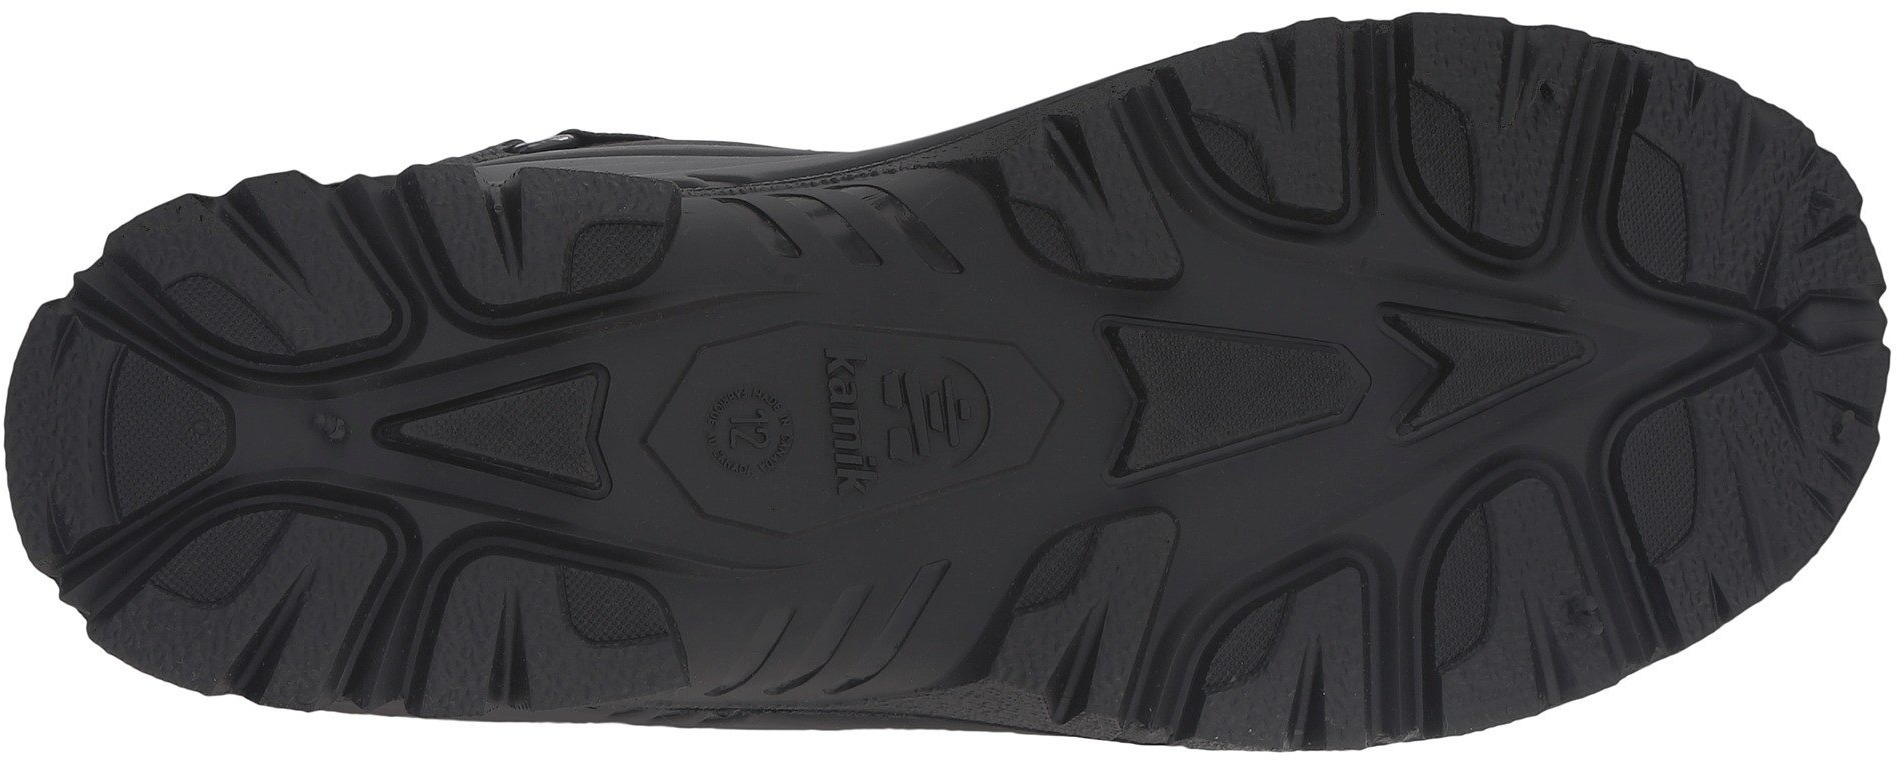text: (722, 365, 888, 506), (890, 345, 1017, 453)
triangle: (370, 355, 671, 525)
